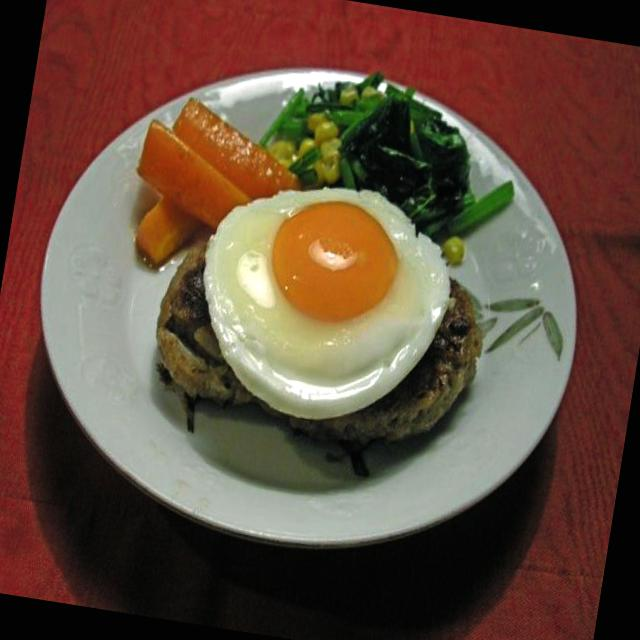Egg: (180, 163, 466, 444)
